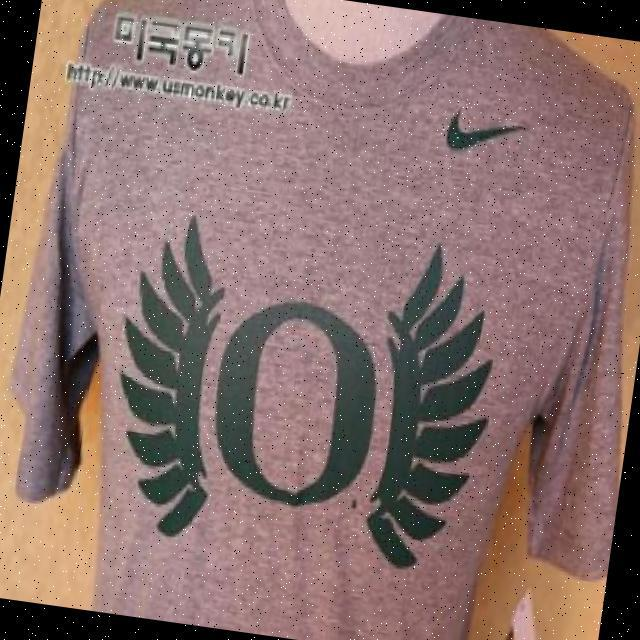Nike: (438, 97, 527, 162)
